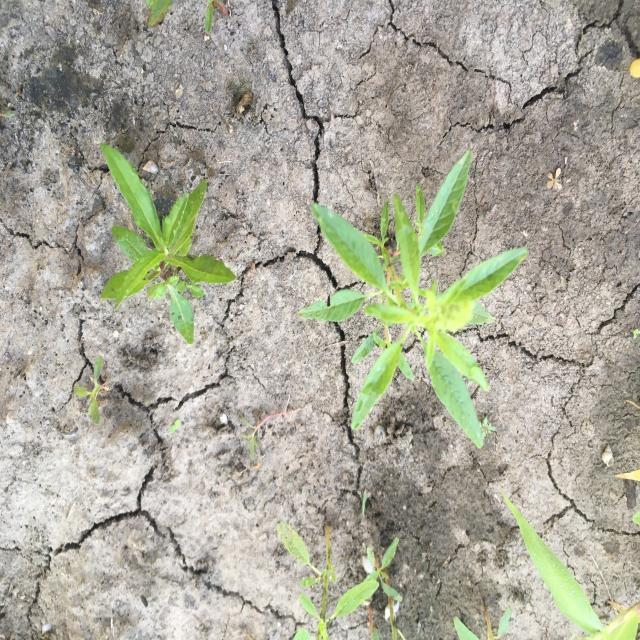Eclipta: (100, 142, 238, 346)
Waterhemp: (296, 148, 529, 450), (272, 518, 404, 638), (72, 355, 111, 426)
